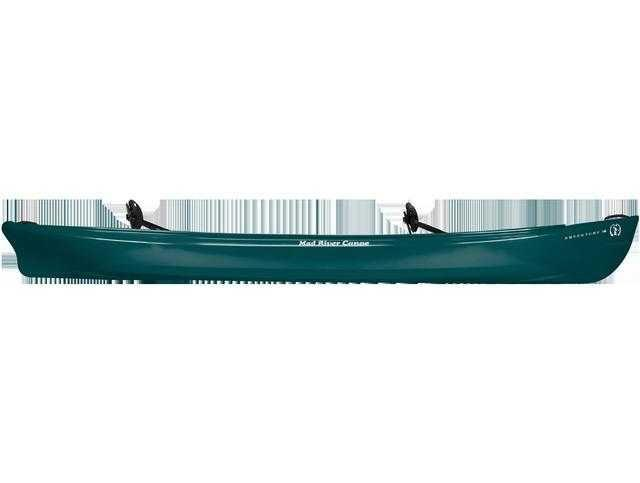kayak: (1, 188, 640, 287)
